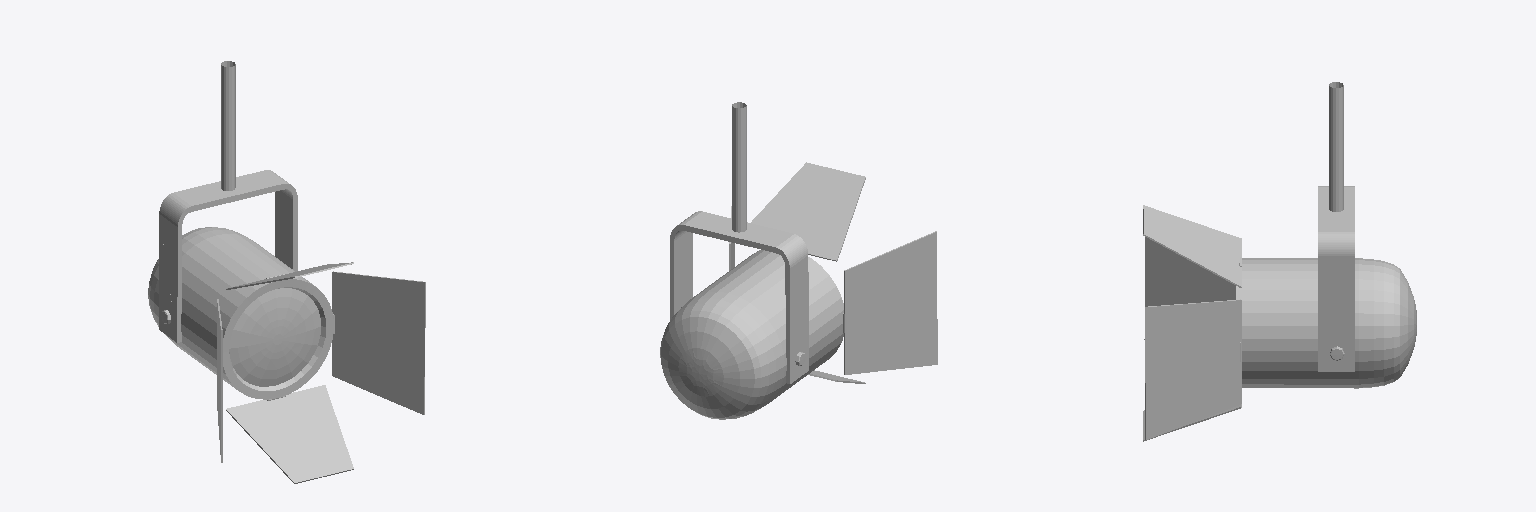
File: camera-1.obj
3 renders of one model, left to right at view 1: azimuth 30°, elevation 25°; view 2: azimuth 150°, elevation 25°; view 3: azimuth 270°, elevation 25°, orthographic.
Visible parts, largest first — view 1: Flat_Panel_Light_Base, Flat_Panels_Reflector_1, Flat_Panels_Reflector_4, Flat_Panel_Connector, Flat_Panel_Light_Bulb, Flat_Panel_Light_Holder, Flat_Panels_Reflector_3, Flat_Panels_Reflector_2; view 2: Flat_Panel_Light_Base, Flat_Panels_Reflector_3, Flat_Panel_Connector, Flat_Panels_Reflector_2, Flat_Panel_Light_Holder; view 3: Flat_Panel_Light_Base, Flat_Panels_Reflector_1, Flat_Panel_Connector, Flat_Panels_Reflector_2, Flat_Panels_Reflector_3, Flat_Panel_Light_Holder.
Part boxes in pixels (x1,y1,x2,y2): Flat_Panel_Light_Base: (148,227,333,399); Flat_Panels_Reflector_1: (332,271,425,414); Flat_Panels_Reflector_4: (226,385,353,483); Flat_Panel_Connector: (159,170,297,342); Flat_Panel_Light_Bulb: (229,288,320,386); Flat_Panel_Light_Holder: (221,61,235,190); Flat_Panels_Reflector_3: (217,299,222,462); Flat_Panels_Reflector_2: (226,262,353,289); Flat_Panel_Light_Base: (660,250,843,419); Flat_Panels_Reflector_3: (844,231,937,374); Flat_Panel_Connector: (670,211,808,383); Flat_Panels_Reflector_2: (751,162,865,261); Flat_Panel_Light_Holder: (732,102,746,232); Flat_Panel_Light_Base: (1236,258,1416,388); Flat_Panels_Reflector_1: (1145,299,1241,439); Flat_Panel_Connector: (1318,186,1354,371); Flat_Panels_Reflector_2: (1143,205,1241,287); Flat_Panels_Reflector_3: (1144,237,1235,339); Flat_Panel_Light_Holder: (1329,82,1343,211).
Size of the model in its own units: 0.8522 by 1.36 by 0.9902.